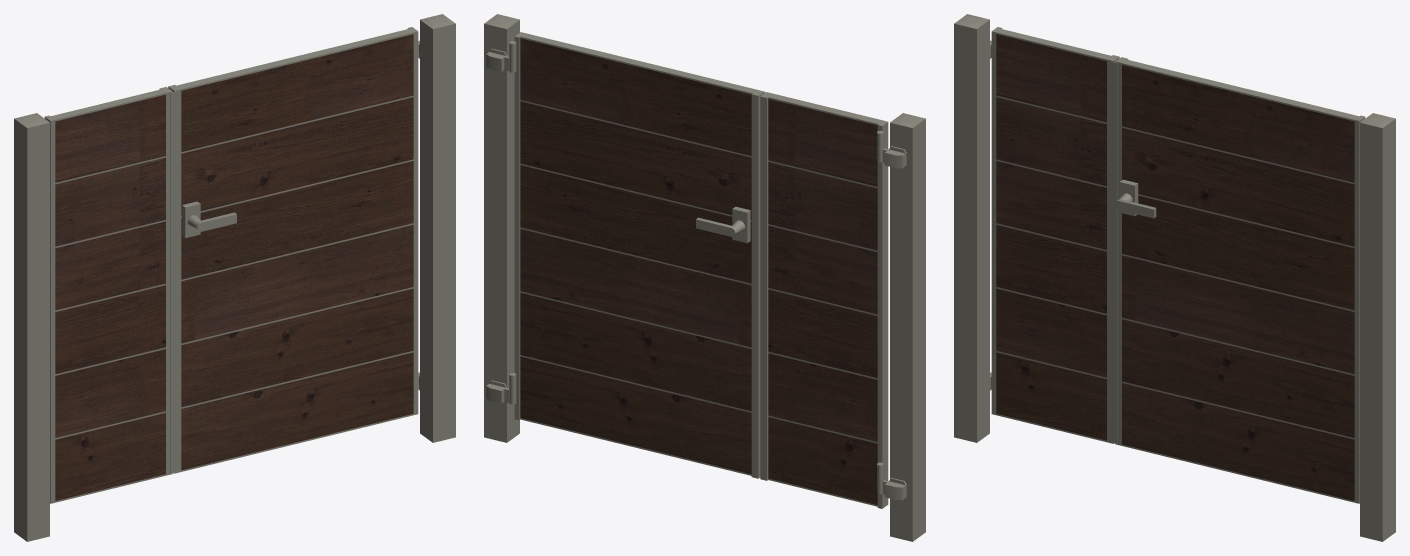
The model's file is 400-800-1200_darkpine.fbx.
3 renders of one model, left to right at view 1: azimuth 30°, elevation 25°; view 2: azimuth 150°, elevation 25°; view 3: azimuth 330°, elevation 25°, orthographic.
Parts seen in each view (by area): view 1: 400-800-1200darkpine; view 2: 400-800-1200darkpine; view 3: 400-800-1200darkpine.
Boxes of the visible parts, box(x1,y1,x2,y2) form: 400-800-1200darkpine: box(14, 14, 455, 541); 400-800-1200darkpine: box(484, 14, 925, 541); 400-800-1200darkpine: box(954, 14, 1395, 541).
Size of the model in its own units: 141 by 130 by 17.1.
2 materials, 2 textured.
